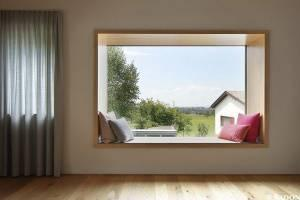window: (96, 30, 266, 146)
